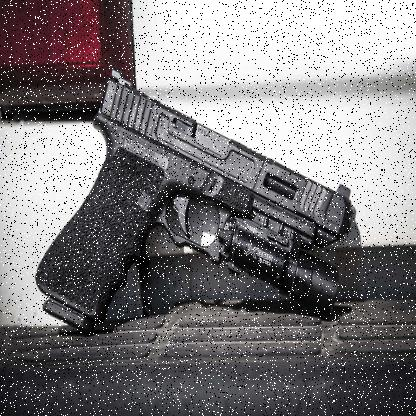pistol: (34, 60, 356, 336)
